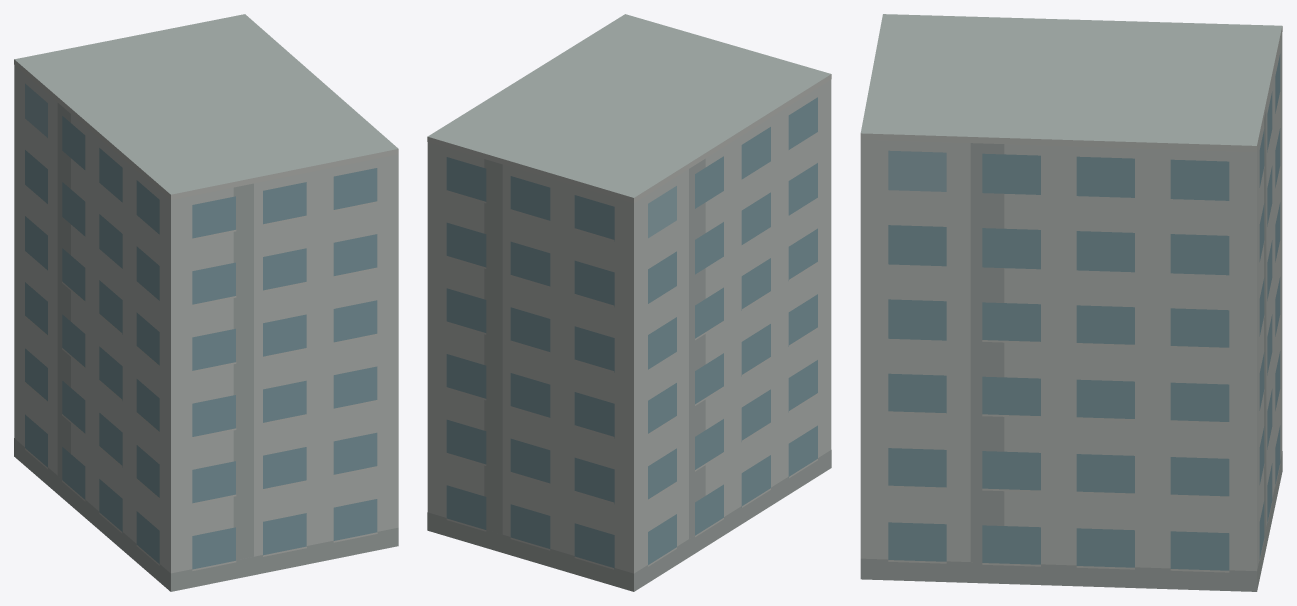
File: survey-upis-32878131.glb
3 renders of one model, left to right at view 1: azimuth 30°, elevation 25°; view 2: azimuth 150°, elevation 25°; view 3: azimuth 270°, elevation 25°, orthographic. The views are drawn at different scales.
Parts seen in each view (by area): view 1: survey-upis-32878131.tmp; view 2: survey-upis-32878131.tmp; view 3: survey-upis-32878131.tmp.
Part boxes in pixels (<box>): survey-upis-32878131.tmp: <box>14,14,398,591</box>; survey-upis-32878131.tmp: <box>427,14,831,591</box>; survey-upis-32878131.tmp: <box>860,14,1282,591</box>.
Size of the model in its own units: 11.15 by 17.55 by 15.05.
